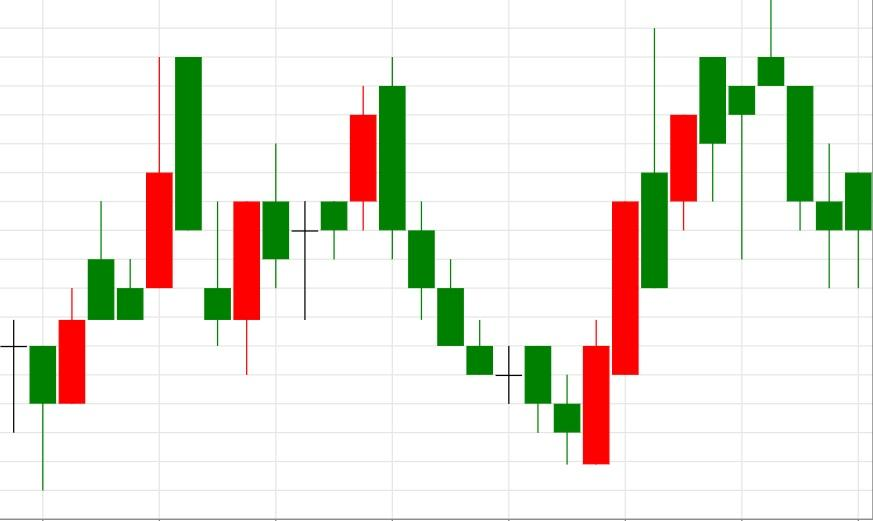bearish_engulfing_fall: (203, 58, 407, 376)
bullish_engulfing_rise: (378, 57, 611, 465)
shooting_star_fall: (582, 0, 785, 466)
